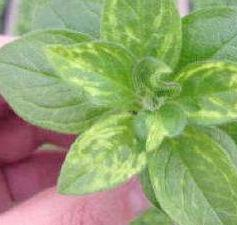Tomato leaf mosaic virus: (145, 130, 237, 225), (103, 0, 186, 95), (43, 41, 148, 114), (171, 59, 237, 124)
